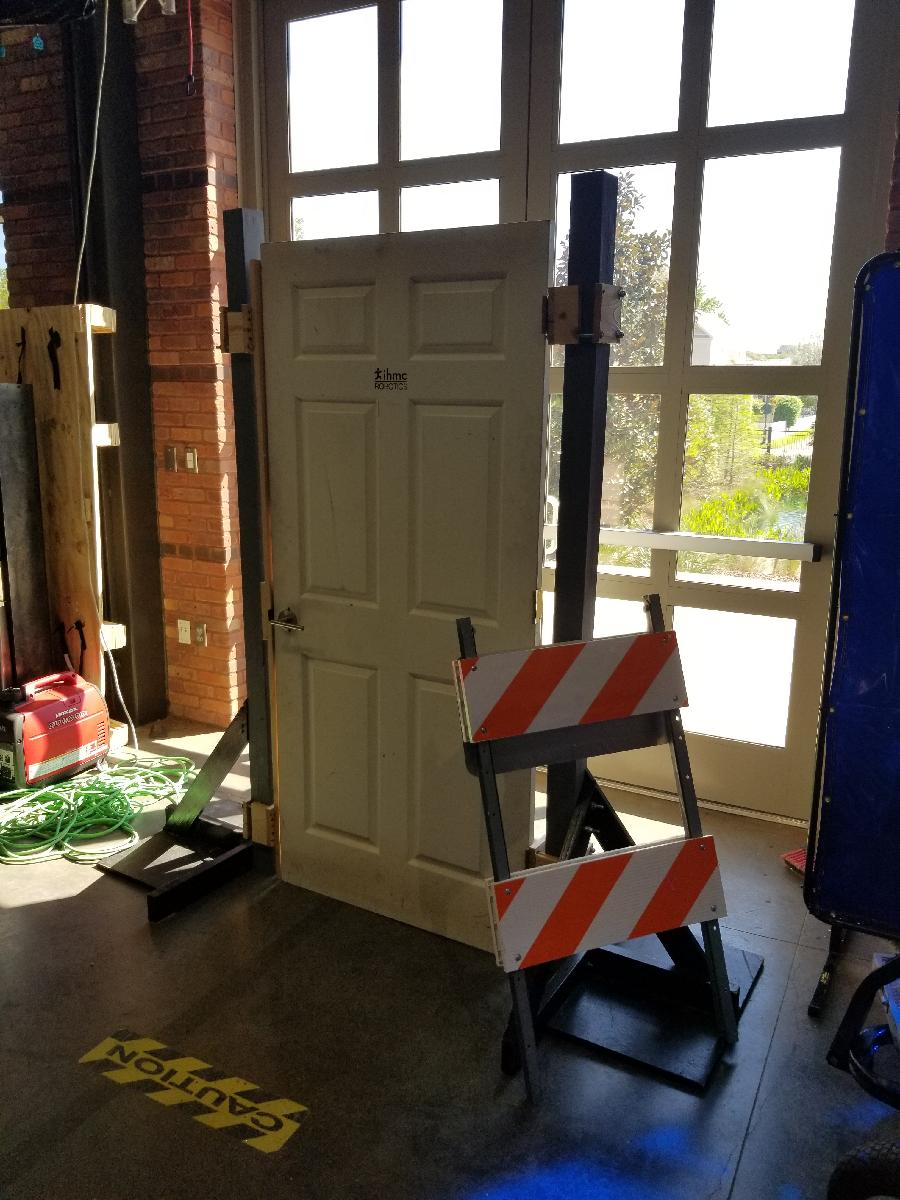door: (256, 217, 559, 967)
doorHandle: (272, 606, 319, 645)
